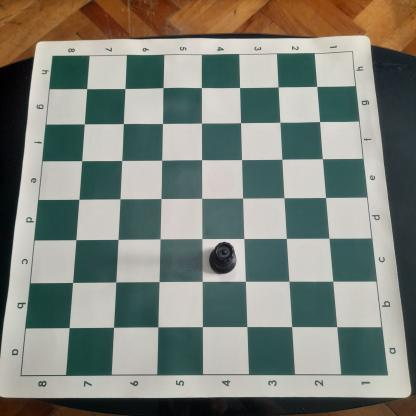black-queen: (208, 239, 238, 275)
